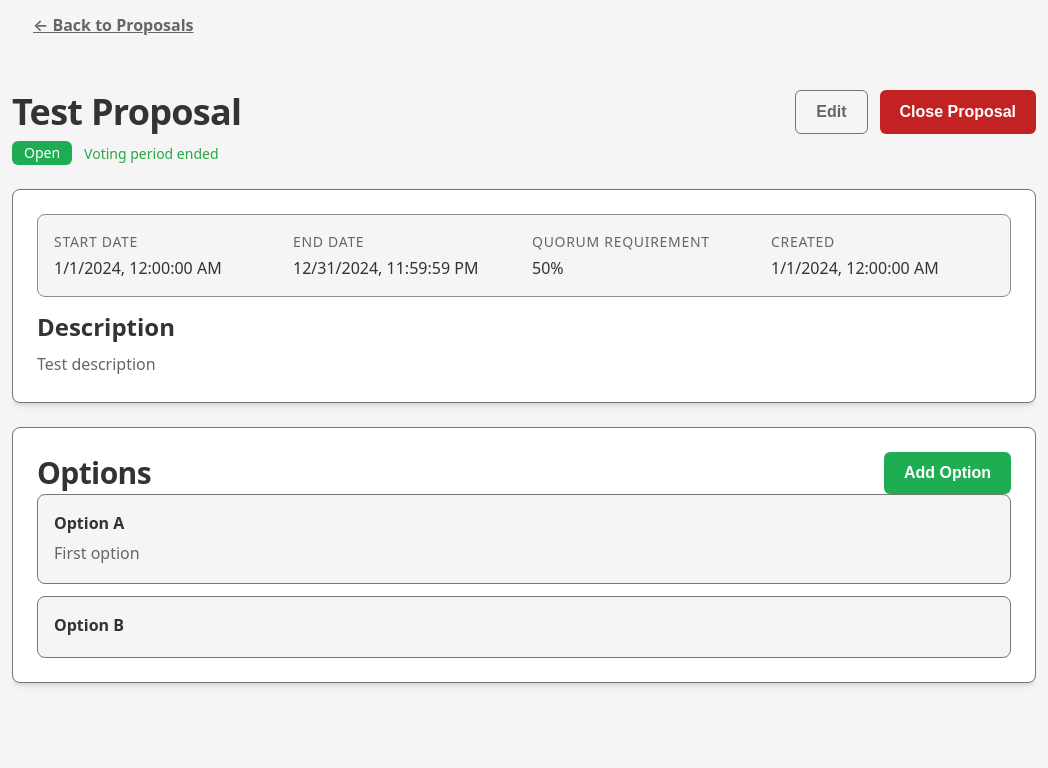
Test: AdminProposalDetailPage › shows add option form when button clicked
This screenshot has width=1048, height=768.
Expected: the heading "Options" is shown, [37,455,151,491]
Click the button "Add Option".
click(947, 473)  # box [884,452,1011,494]
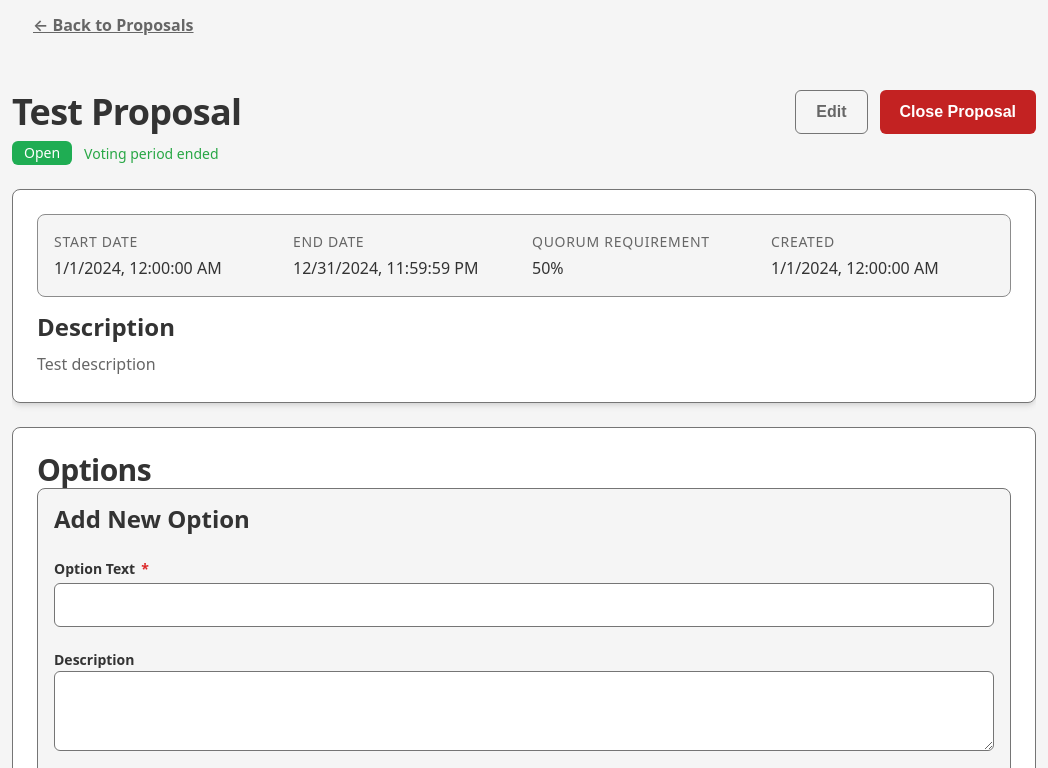
Expected: the heading "Add New Option" is shown, [54,502,250,535]
Expected: the field labelled "Option Text *" is shown, [54,583,994,627]
